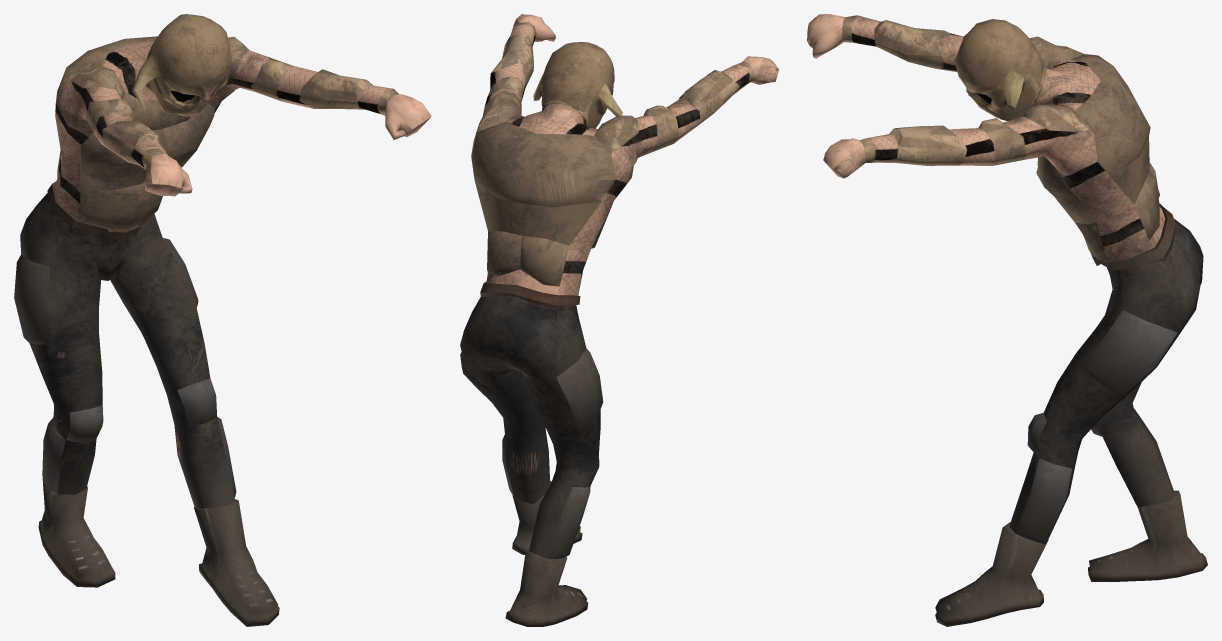
The model's file is Anim_ataque_d3_npc1.0045.obj.
3 views of the same model, side by side, from view 1: azimuth 30°, elevation 25°; view 2: azimuth 150°, elevation 25°; view 3: azimuth 270°, elevation 25° (orthographic). The views are drawn at different scales.
Parts seen in each view (by area): view 1: NPC2; view 2: NPC2; view 3: NPC2.
Part boxes in pixels (x1,y1,x2,y2): NPC2: (14,14,431,626); NPC2: (460,14,778,626); NPC2: (807,14,1207,626).
Bounding box in the file's own units: 4.44 × 8.61 × 5.41.
